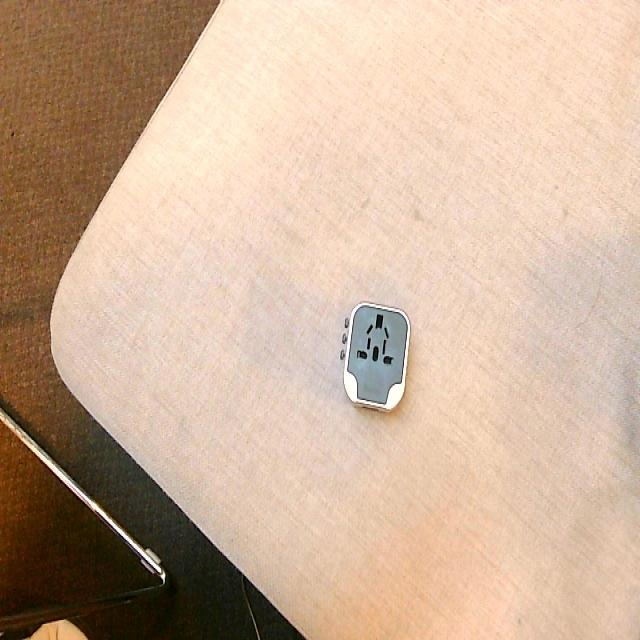adapter: (339, 300, 410, 412)
